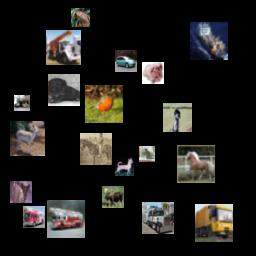automobile: (115, 50, 137, 72)
bird: (85, 85, 123, 123), (163, 103, 192, 132)
cat: (14, 95, 30, 111), (139, 146, 155, 162)
deer: (10, 121, 45, 156), (102, 186, 124, 208), (10, 181, 32, 203)
dog: (48, 74, 80, 106), (142, 62, 164, 84), (115, 157, 134, 176)
frog: (71, 8, 90, 27)
ship: (190, 22, 228, 60)
truck: (47, 200, 85, 238), (195, 204, 233, 242), (46, 30, 81, 65), (142, 202, 174, 234), (23, 206, 45, 228)
